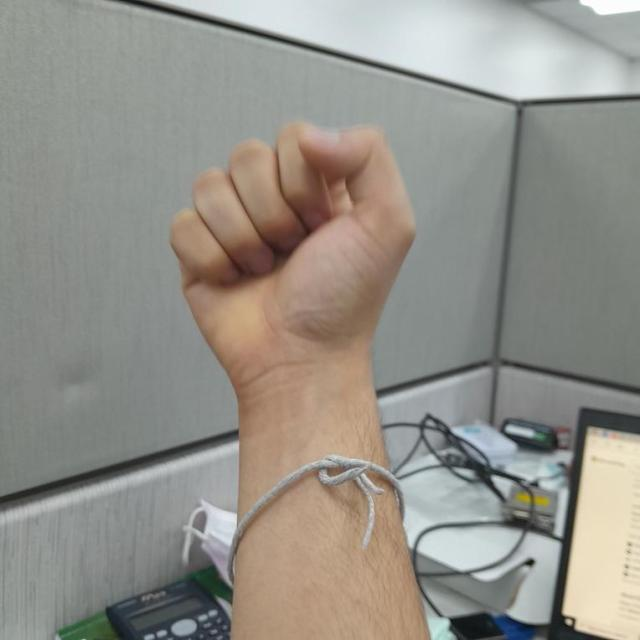fist: (169, 116, 416, 374)
